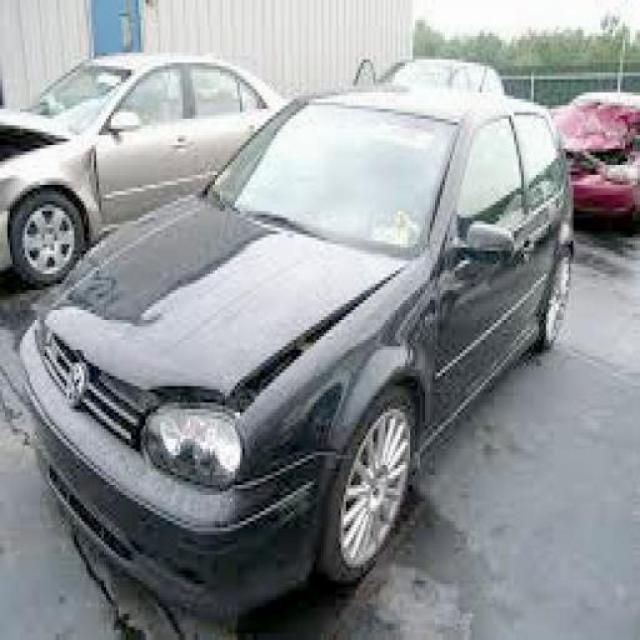Car-Damage: (29, 269, 399, 417)
